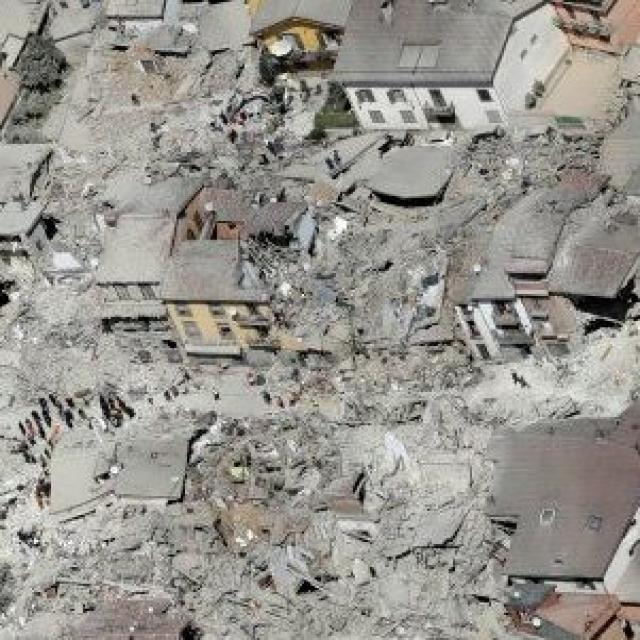collapsed_building: (457, 415, 636, 638), (359, 215, 619, 362), (170, 240, 349, 382), (104, 0, 255, 154), (57, 430, 192, 552), (255, 0, 345, 148), (0, 139, 72, 304)
